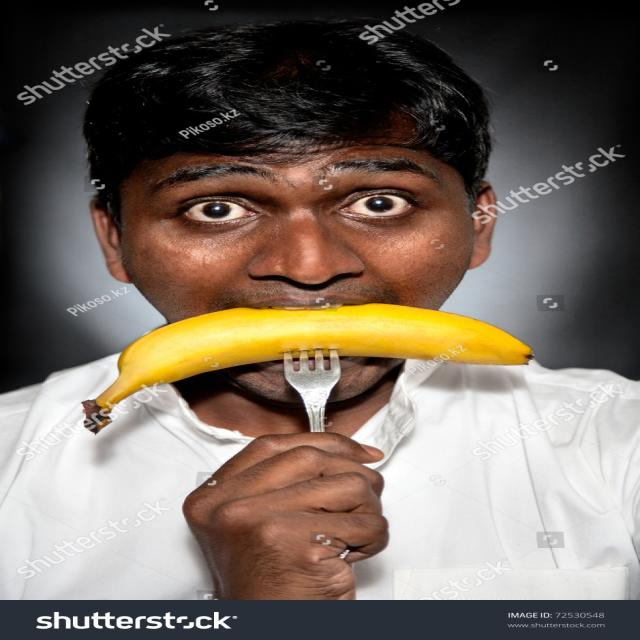banana_peel: (57, 289, 586, 460)
